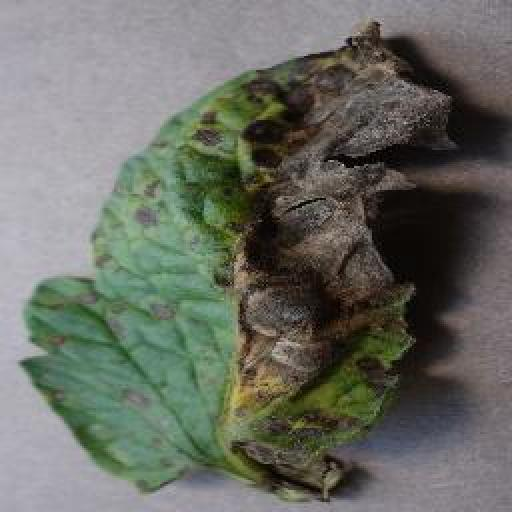Early Blight: (22, 17, 456, 503)
